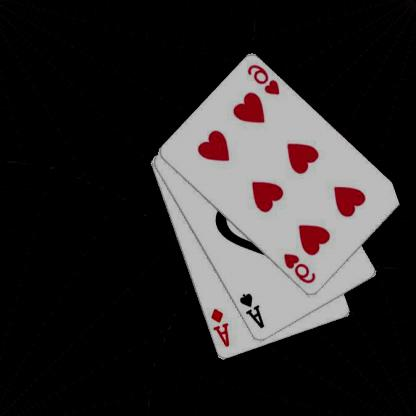6H: (245, 62, 282, 97), (283, 251, 318, 285)
AD: (210, 306, 233, 348)
AS: (238, 291, 267, 330)
